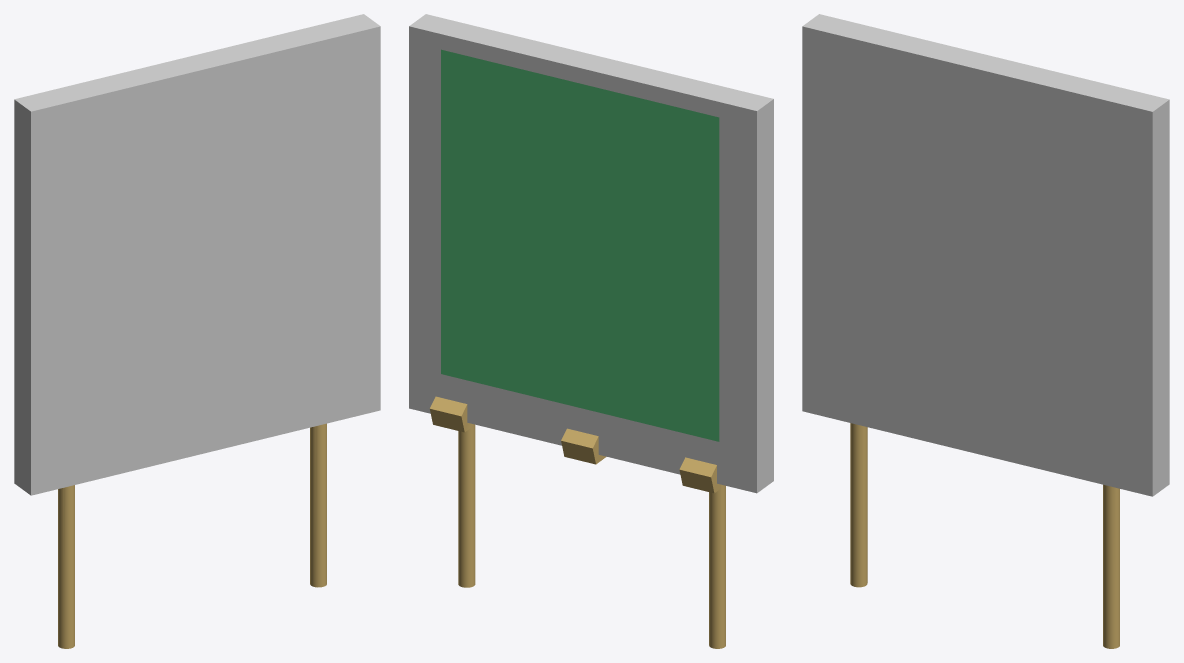
The model's file is board.fbx.
3 renders of one model, left to right at view 1: azimuth 30°, elevation 25°; view 2: azimuth 150°, elevation 25°; view 3: azimuth 330°, elevation 25°, orthographic.
Parts seen in each view (by area): view 1: polySurface7; view 2: polySurface7; view 3: polySurface7.
Boxes of the visible parts, x1,y1,x2,y2 form: polySurface7: (14, 14, 380, 648); polySurface7: (409, 14, 773, 648); polySurface7: (802, 14, 1169, 648).
Size of the model in its own units: 1.91 by 2.88 by 0.2161.
